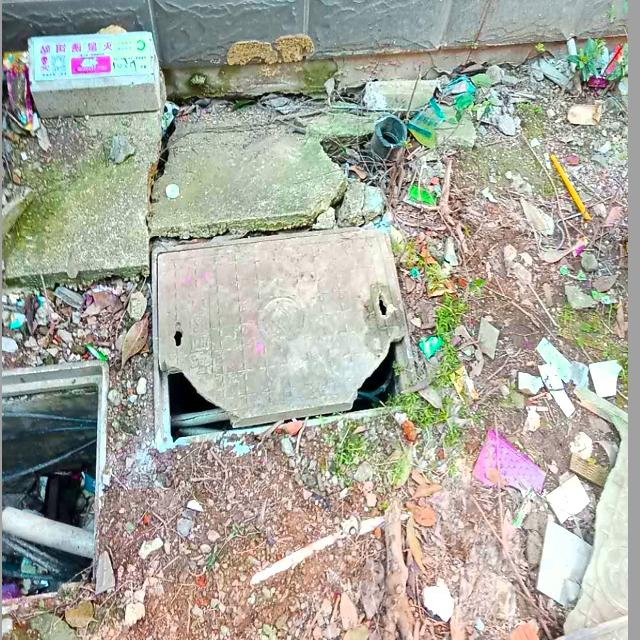broke: (150, 222, 426, 453)
